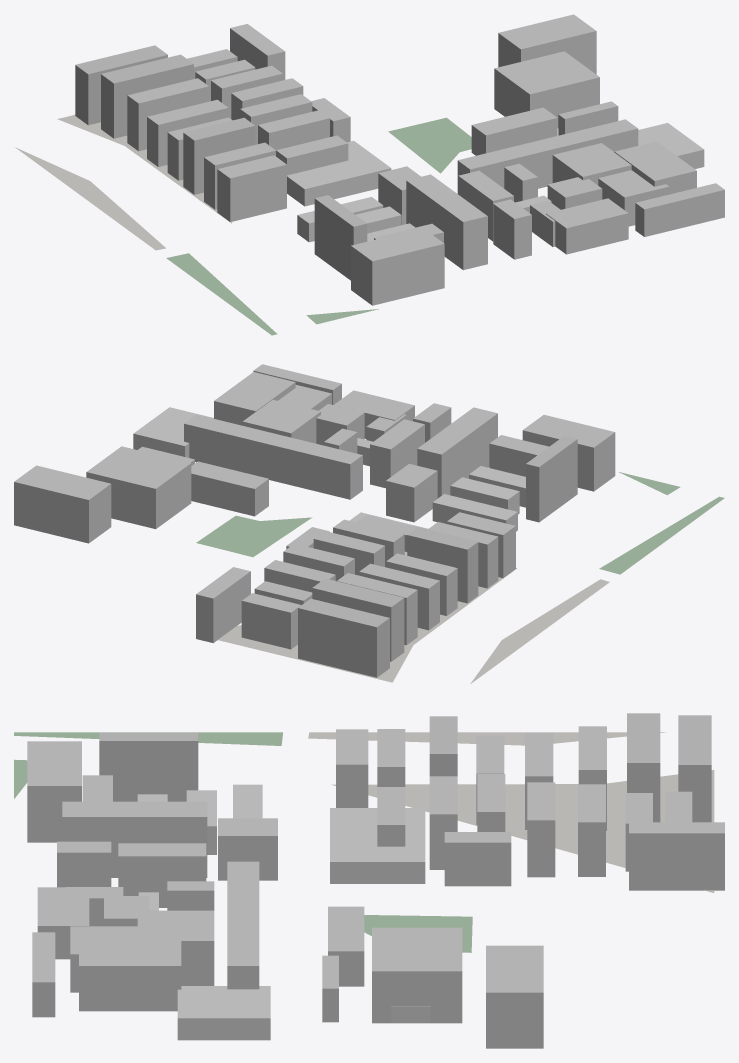
File: 126_90_mid.glb
The picture shows the model from 3 angles, top to bottom: view 1: azimuth 30°, elevation 25°; view 2: azimuth 150°, elevation 25°; view 3: azimuth 270°, elevation 25°; orthographic projection. The views are drawn at different scales.
Bounding box in the file's own units: 535 × 56.46 × 508.
